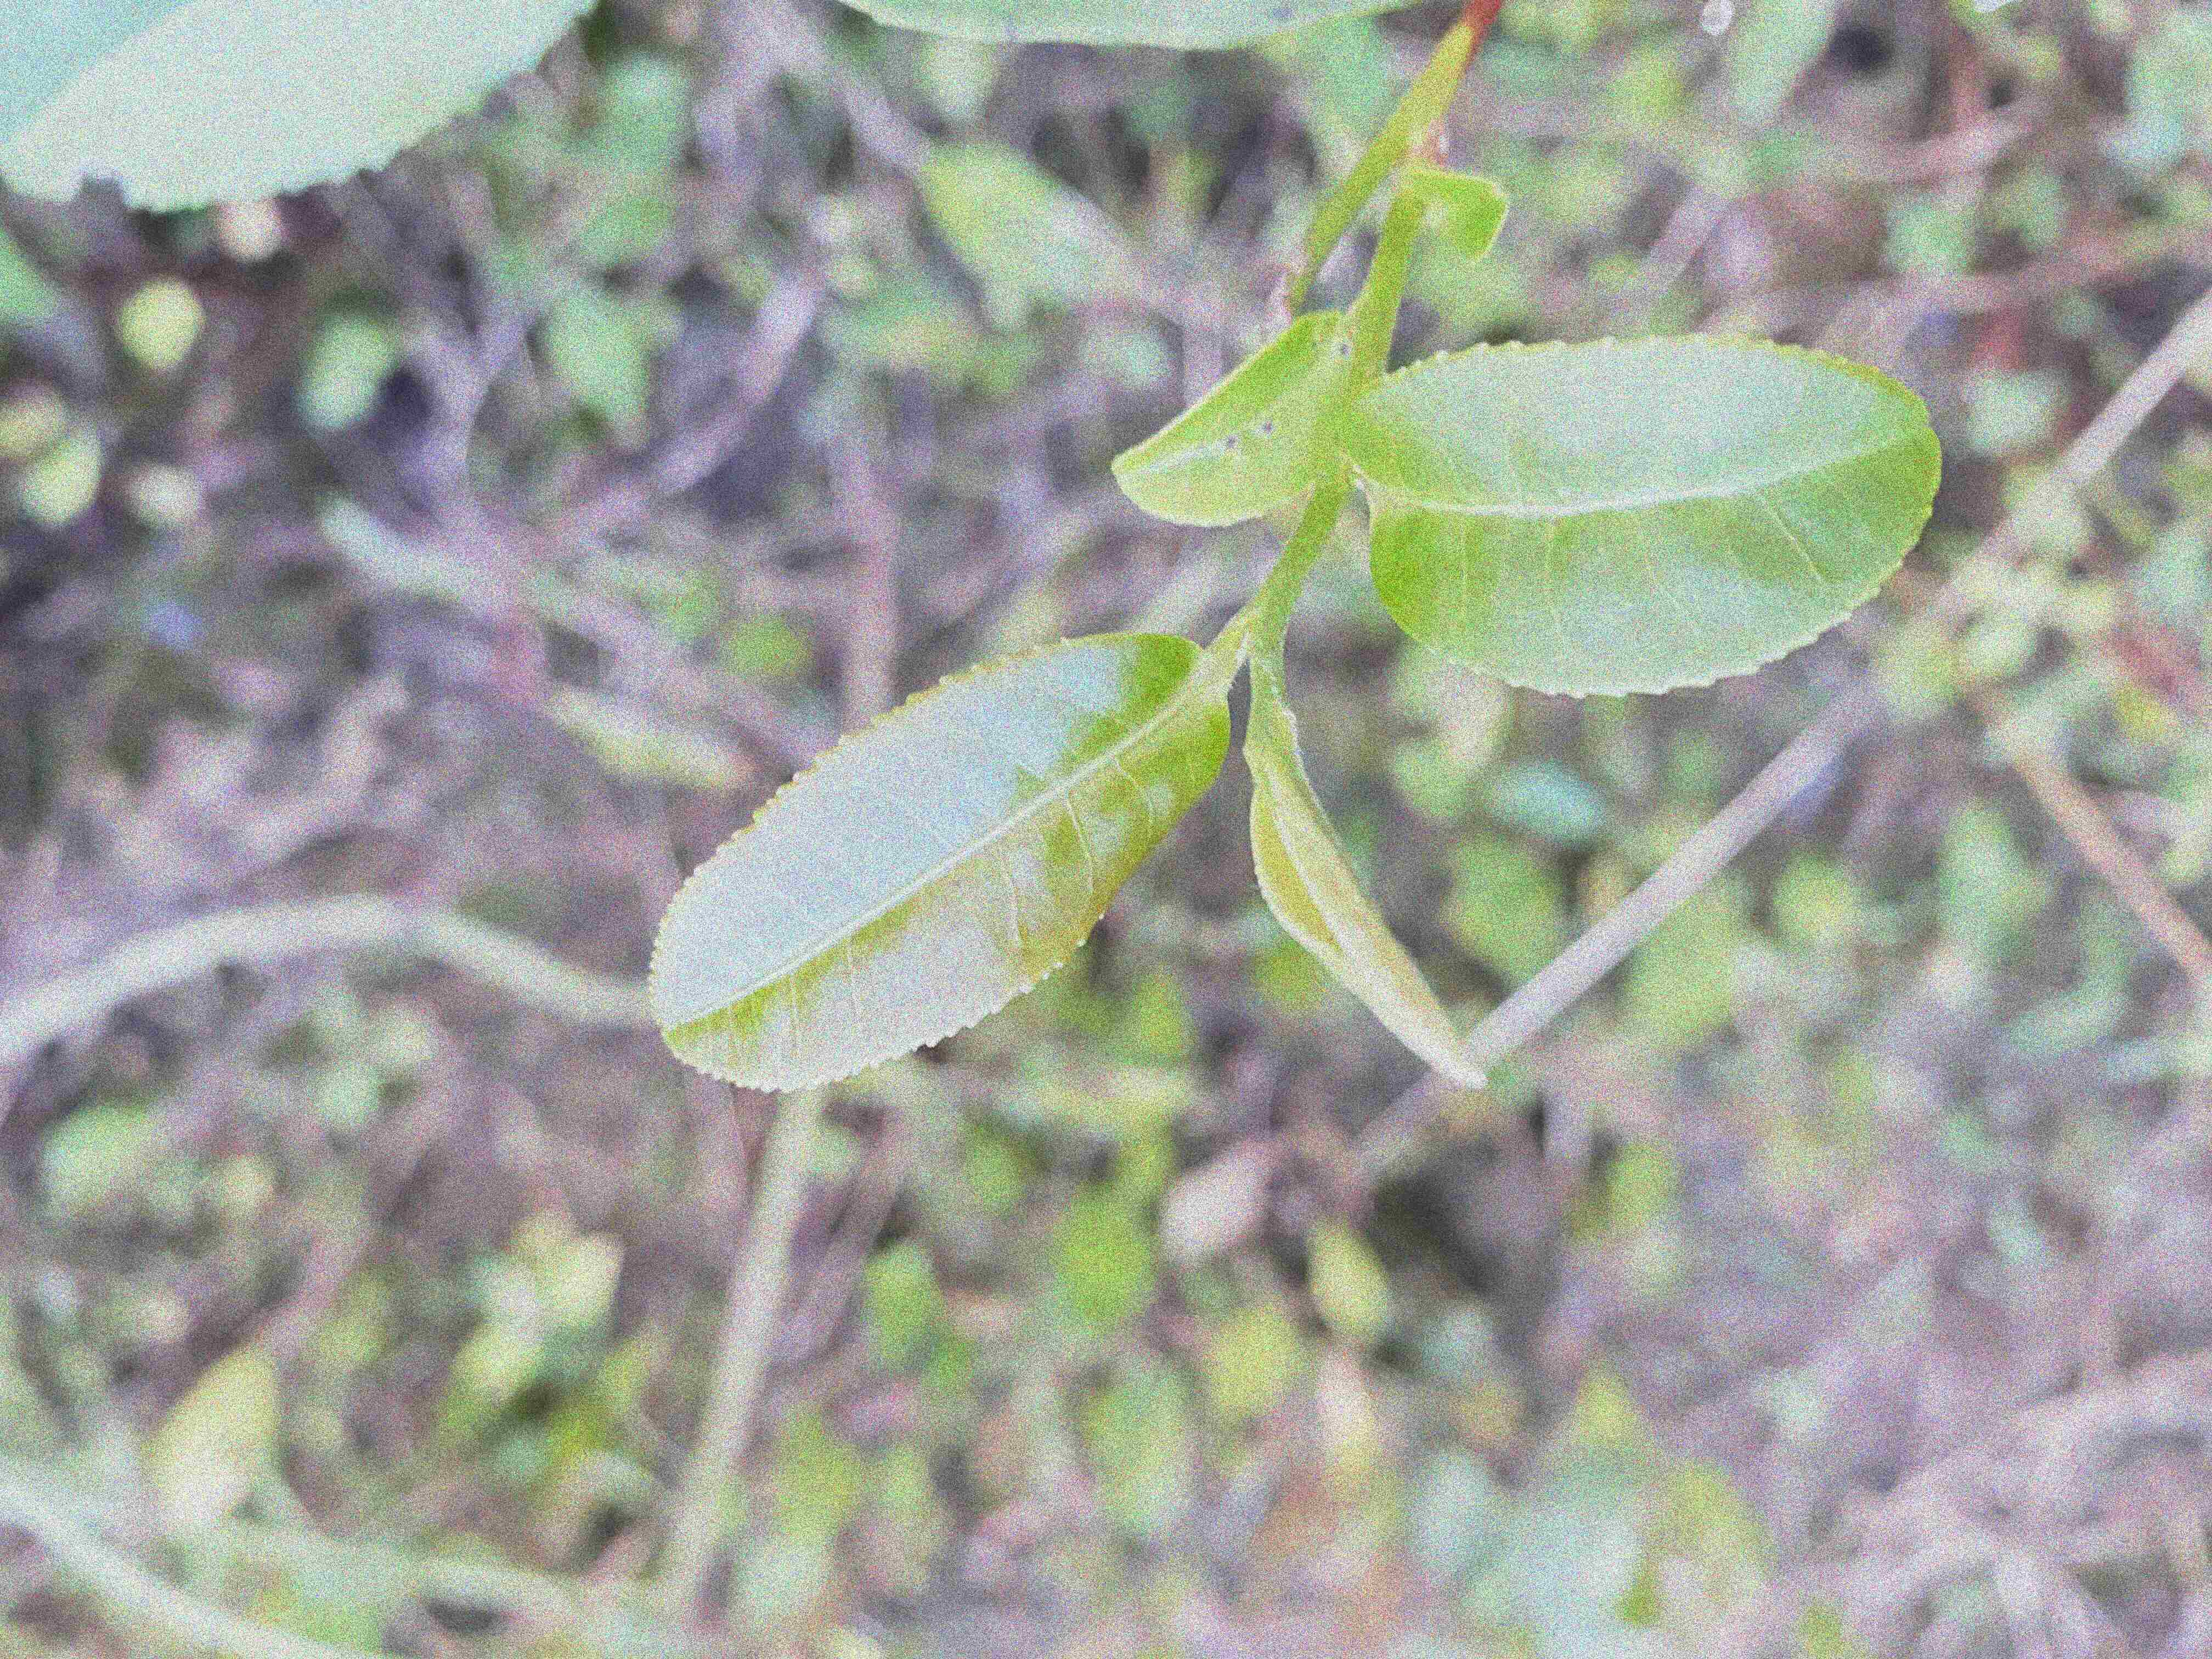healthy: (644, 631, 1235, 1094), (1339, 335, 1946, 699)
tanju_low: (1109, 314, 1360, 530)
